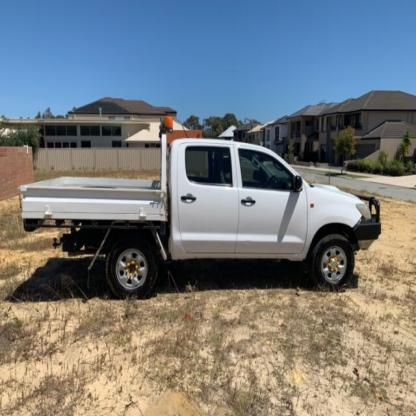light_vehicle: (23, 120, 390, 305)
